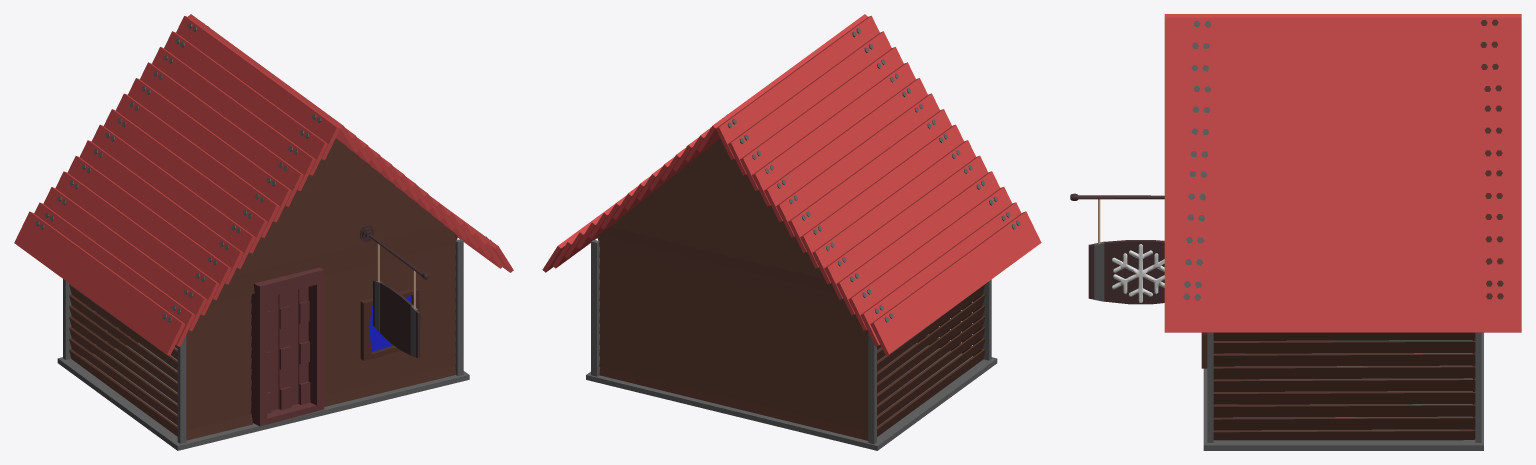
Rendered from CasaNeve.fbx.
3 views of the same model, side by side, from view 1: azimuth 30°, elevation 25°; view 2: azimuth 150°, elevation 25°; view 3: azimuth 270°, elevation 25° (orthographic). The views are drawn at different scales.
Parts seen in each view (by area): view 1: CasaNeve, PortaNeve; view 2: CasaNeve; view 3: CasaNeve.
Part boxes in pixels (box(x1,y1,x2,y2)): CasaNeve: box(14, 14, 513, 450); PortaNeve: box(250, 267, 324, 426); CasaNeve: box(542, 14, 1041, 450); CasaNeve: box(1070, 14, 1521, 450).
Size of the model in its own units: 571 by 473 by 550.
